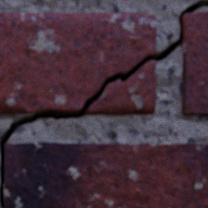brick: (3, 143, 207, 207), (181, 13, 207, 115)
broken_brick: (0, 13, 156, 113), (86, 61, 155, 114)
crack: (0, 0, 207, 207)
